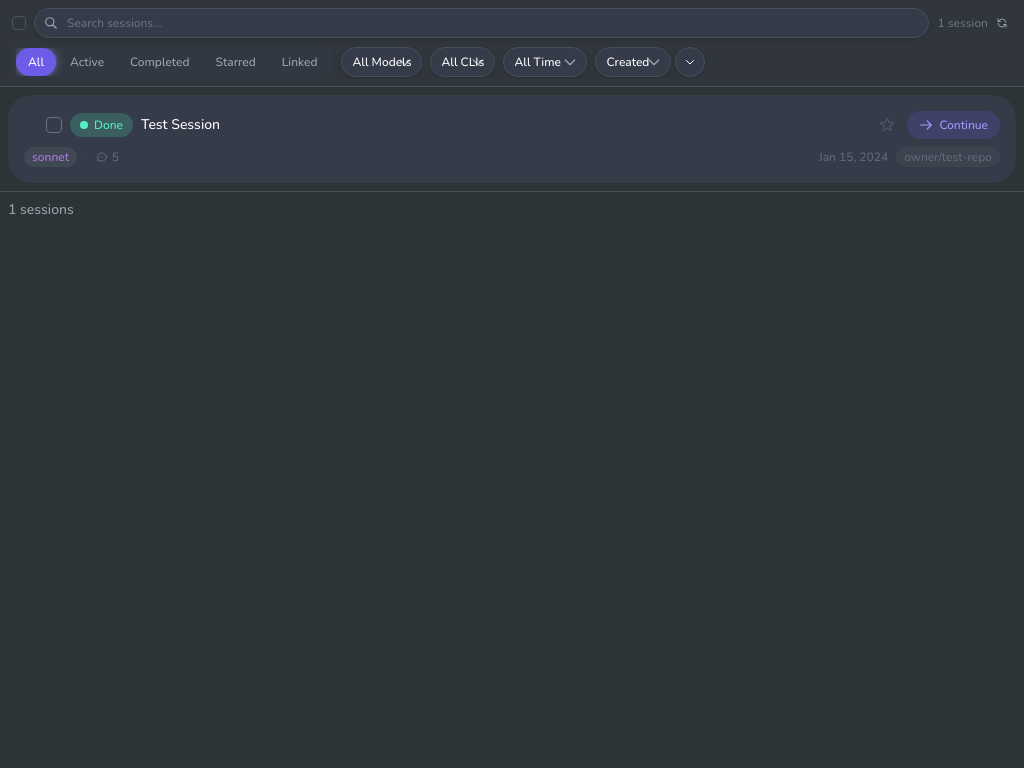
Test: SessionList › Bulk Operations › shows delete confirmation dialog when delete clicked
The width and height of the screenshot is (1024, 768).
// Select the session
Click the button titled "Select". click: (54, 125)
box: [46,117,62,133]
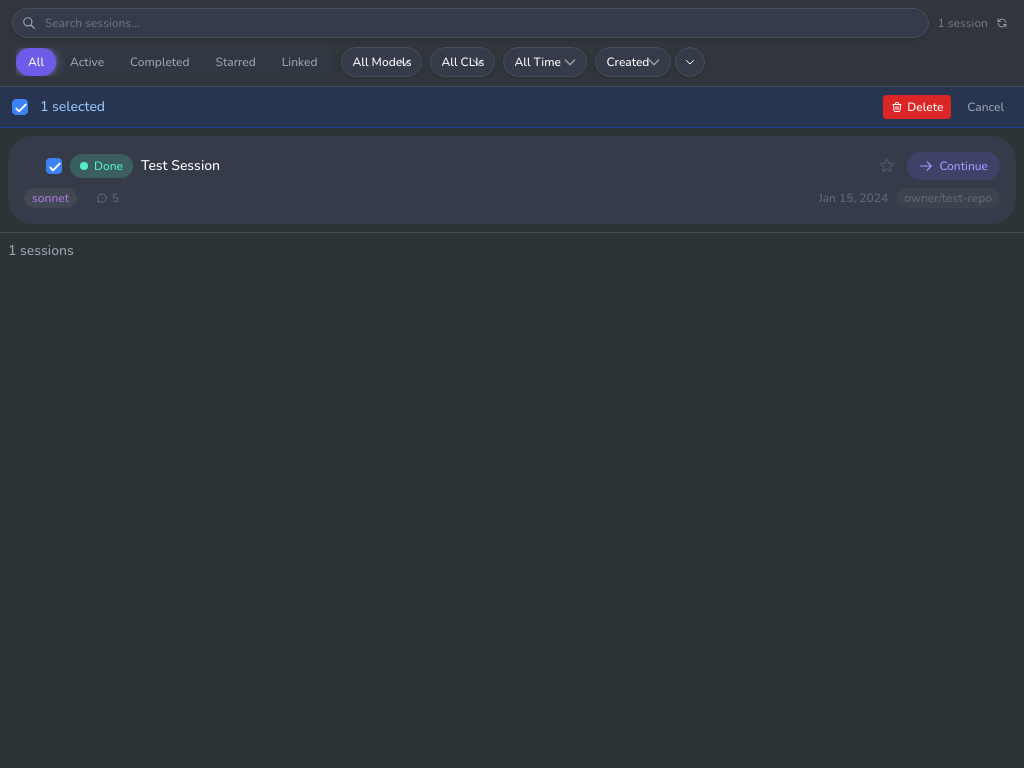
// Click Delete
Click the button titled "Delete selected". click: (917, 107)
box: [883,95,951,119]
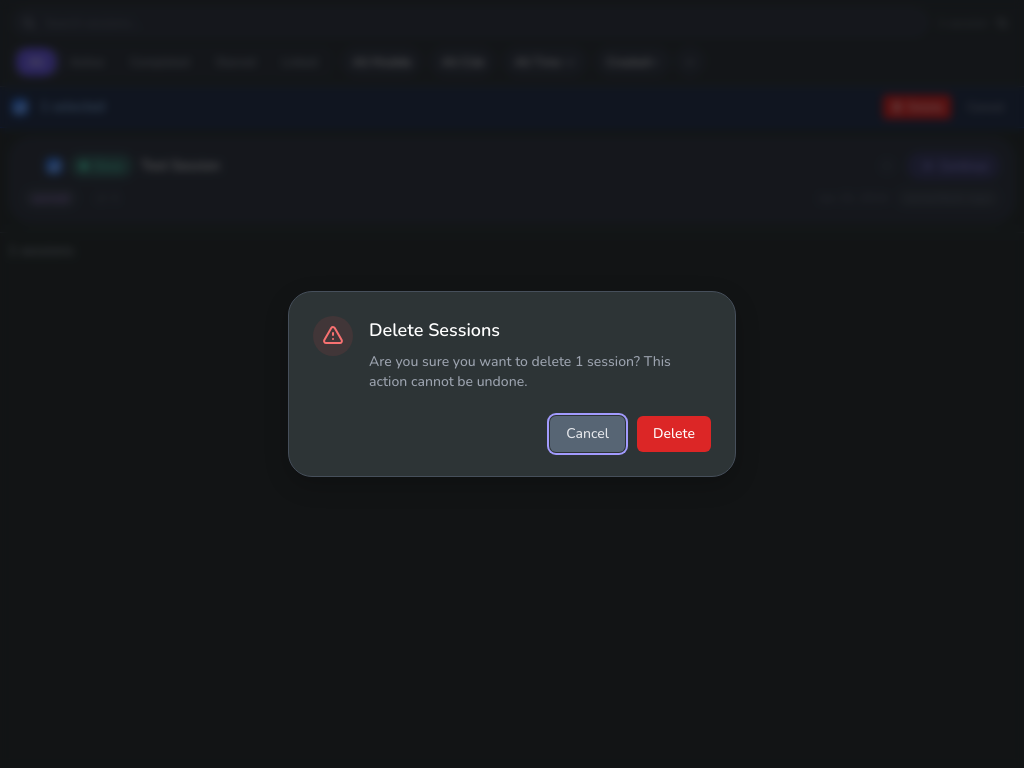
Result: the heading "Delete Sessions" is shown at [369,318,500,342]
Result: the text "Are you sure you want to delete 1 session" is shown at [369,352,671,391]
